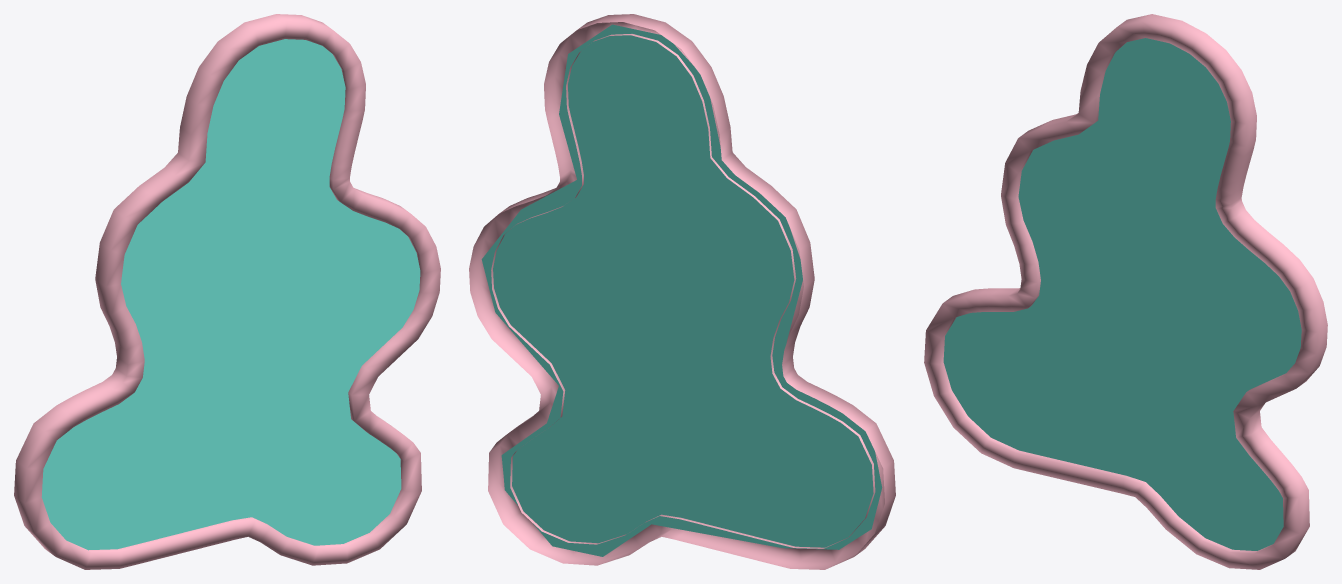
The model's file is Wallslot_01_PastelPop.glb.
The picture shows the model from 3 angles, left to right: view 1: azimuth 30°, elevation 25°; view 2: azimuth 150°, elevation 25°; view 3: azimuth 330°, elevation 25°; orthographic projection. The views are drawn at different scales.
Visible parts, largest first — view 1: Wallslot_01_PastelPop; view 2: Wallslot_01_PastelPop; view 3: Wallslot_01_PastelPop.
Part boxes in pixels (x1=…): Wallslot_01_PastelPop: x1=14, y1=14, x2=440, y2=569; Wallslot_01_PastelPop: x1=469, y1=14, x2=895, y2=569; Wallslot_01_PastelPop: x1=924, y1=14, x2=1327, y2=569.
Size of the model in its own units: 0.473 by 0.6042 by 0.022.
Materials: 1 (1 with a texture image).
